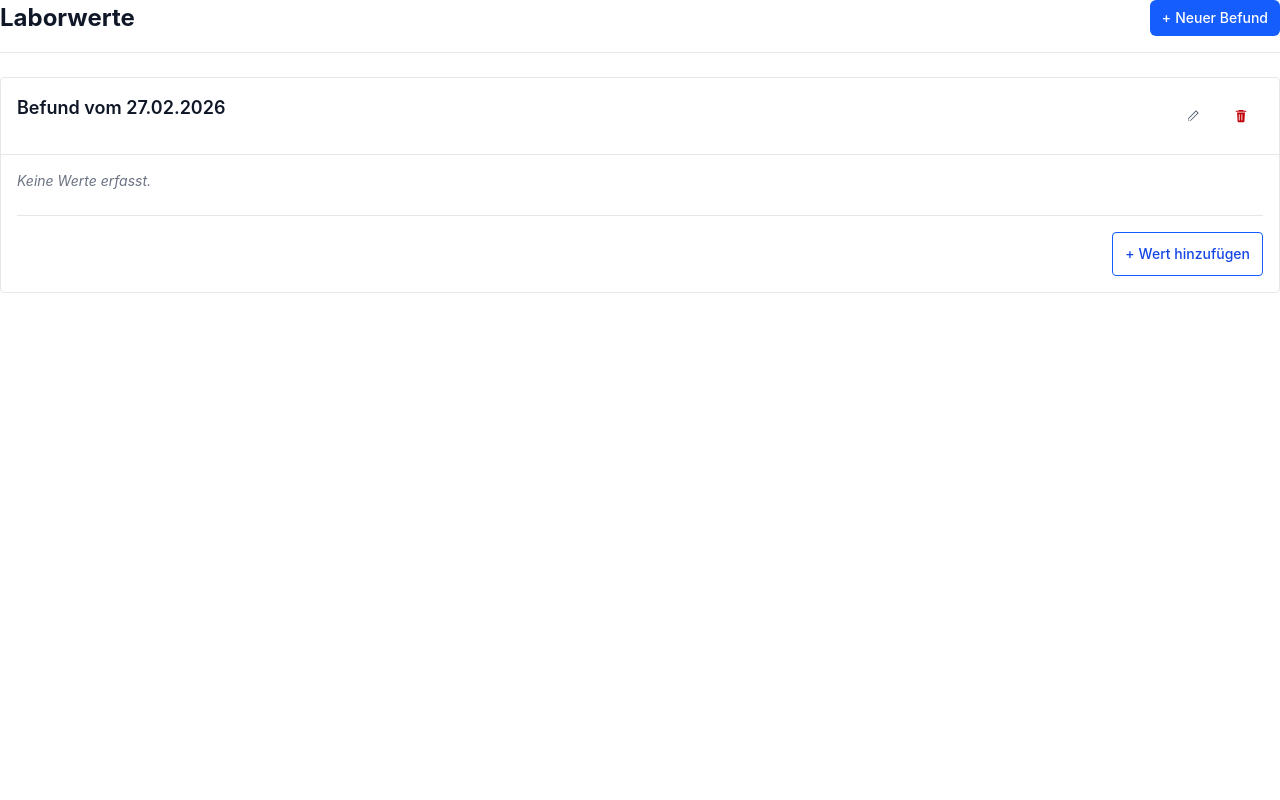
Test: LabValuesView › clicking add-value opens the value form in create mode
The width and height of the screenshot is (1280, 800).
What coordinates should you click on to do the following:
click the button with test id "add-lab-value-btn-lr1"
I would click on:
 (1188, 254)
Its box is [1112,232,1263,276].
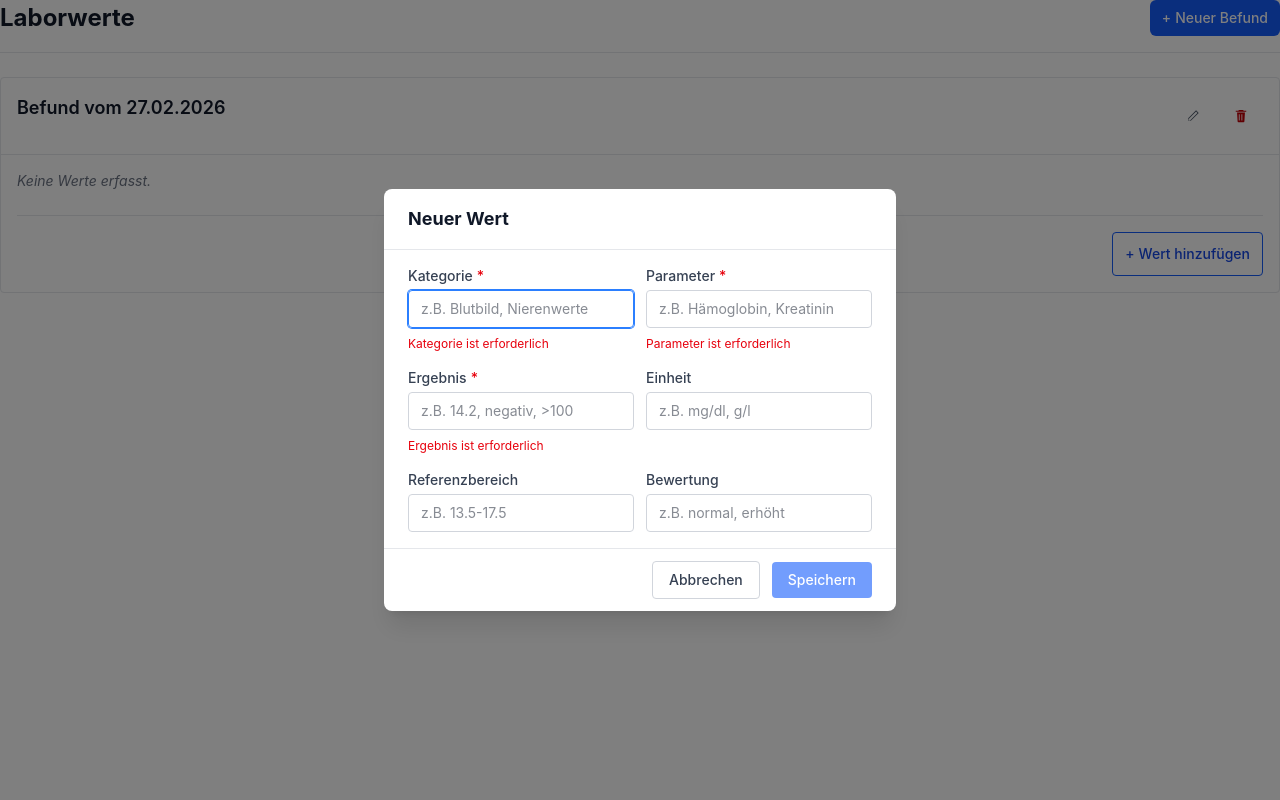
Now the heading with test id "lab-value-form-title" reads "Neuer Wert", box [408,208,509,229]
